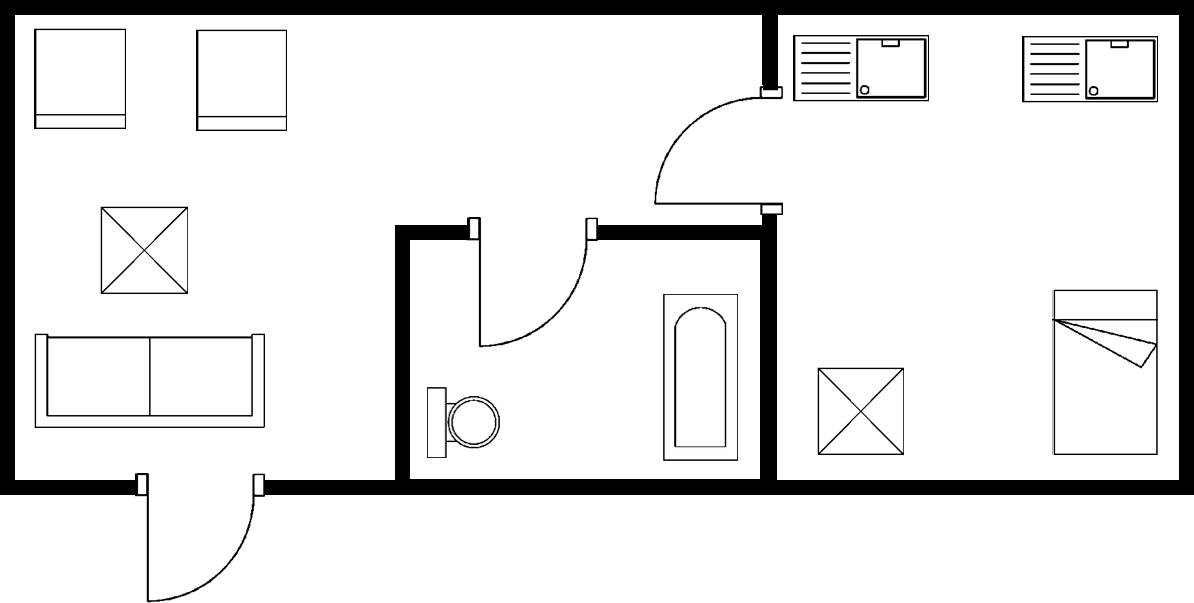bed: (1044, 283, 1164, 460)
coffee_table: (810, 361, 910, 467), (95, 198, 194, 301)
large_sink: (423, 383, 505, 465)
large_sofa: (28, 327, 271, 437)
sink: (1015, 27, 1166, 111), (789, 30, 936, 109)
small_sofa: (25, 23, 134, 136), (189, 22, 295, 138)
tub: (657, 287, 745, 469)
